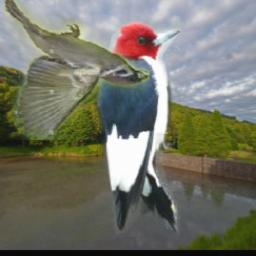Sparrow: (4, 1, 150, 141)
Woodpecker: (95, 15, 181, 238)
